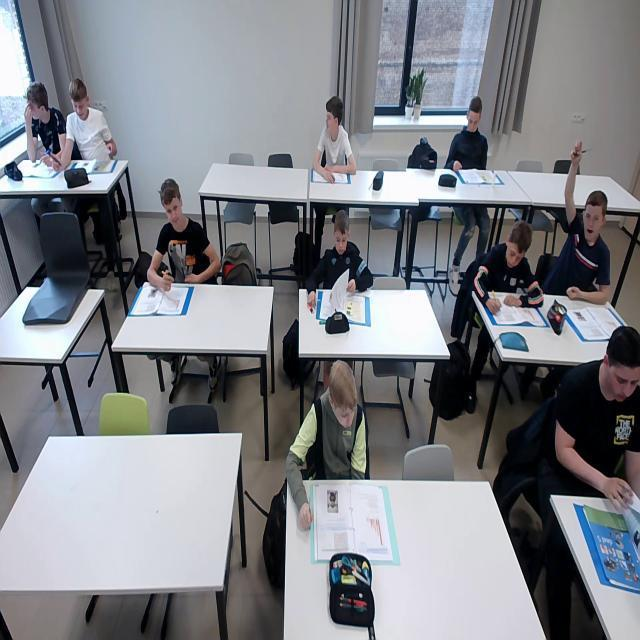Looking away: (22, 88, 48, 121), (324, 106, 338, 132)
Looking forward: (162, 200, 184, 230)
Raising hand: (563, 142, 610, 302)
Reading-writing: (285, 360, 402, 570), (554, 328, 640, 590), (302, 212, 376, 330), (471, 224, 548, 328), (50, 80, 120, 176), (443, 98, 505, 187)
